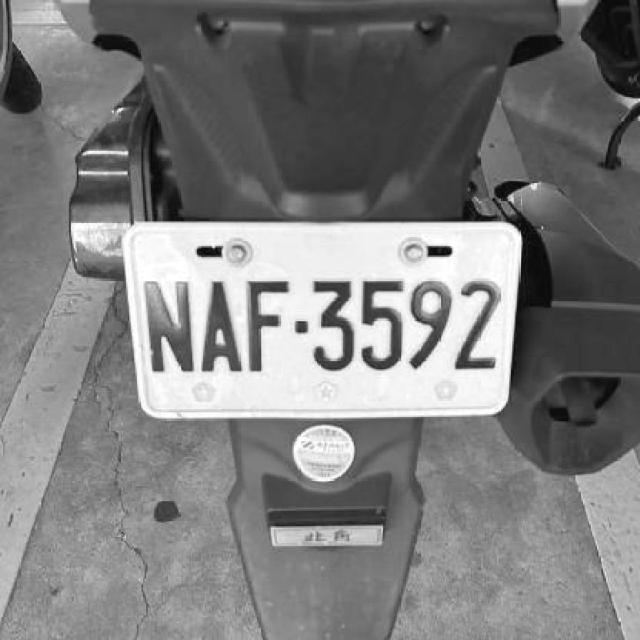-: (291, 318, 306, 337)
2: (452, 274, 500, 377)
3: (306, 272, 354, 372)
5: (356, 274, 406, 371)
9: (403, 276, 452, 370)
A: (200, 278, 245, 377)
F: (244, 274, 290, 369)
N: (143, 277, 197, 375)
